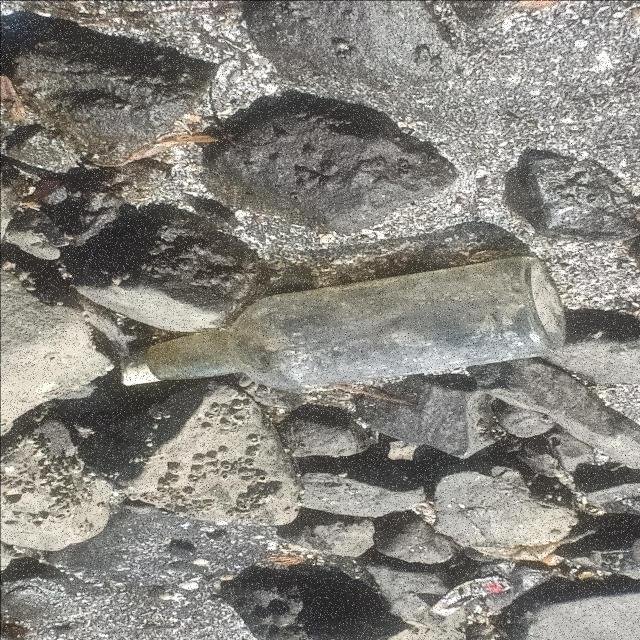glass_waste: (120, 256, 568, 390)
